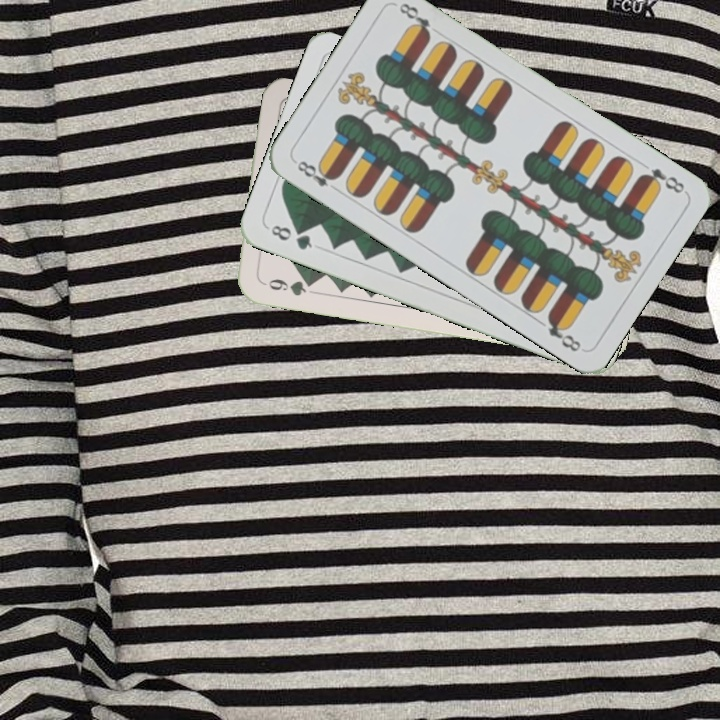E8: (290, 156, 341, 195), (635, 163, 688, 197)
G8: (267, 221, 315, 253)
G9: (257, 275, 317, 299)
